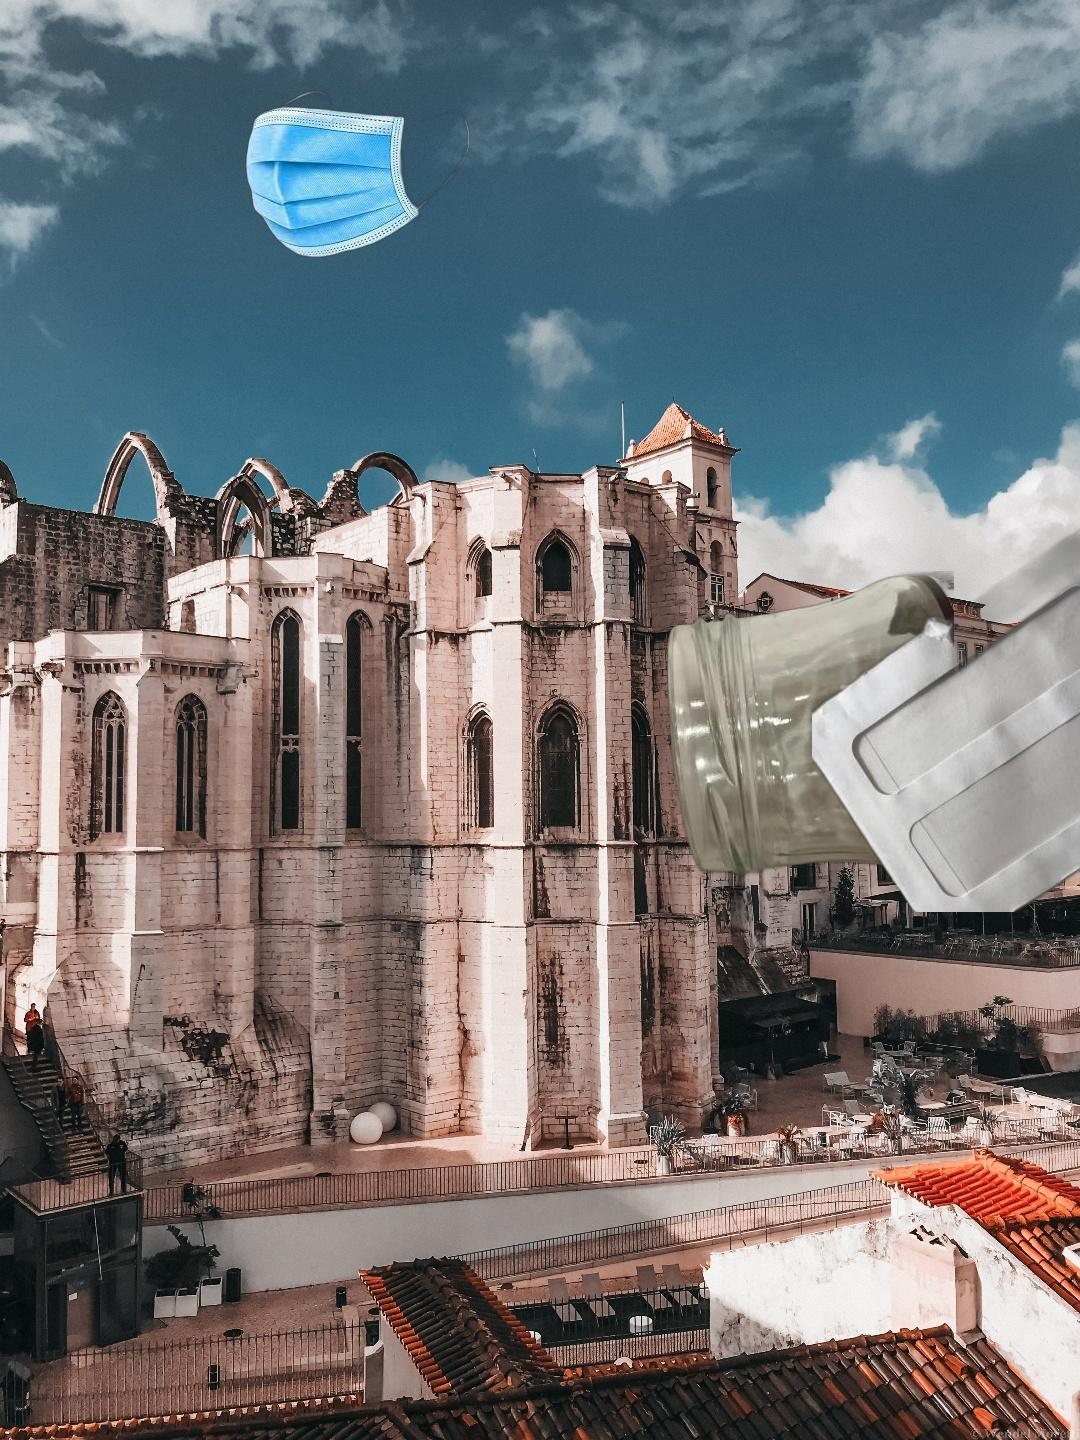glass: (663, 571, 954, 881)
paper: (812, 528, 1080, 912)
trash: (245, 88, 470, 260)
